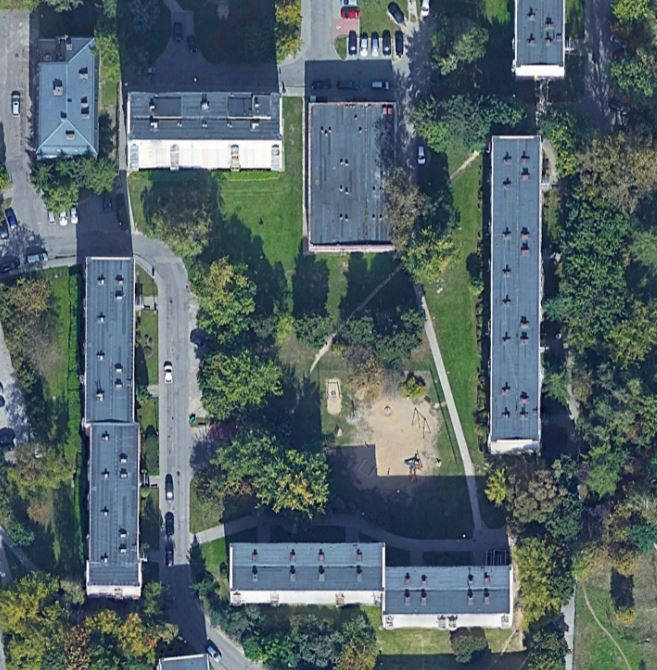block of flats: (218, 538, 520, 636), (474, 122, 555, 463), (73, 249, 146, 608), (120, 86, 298, 173), (29, 20, 103, 163), (505, 1, 571, 87)
shopping_center: (303, 95, 406, 257)
